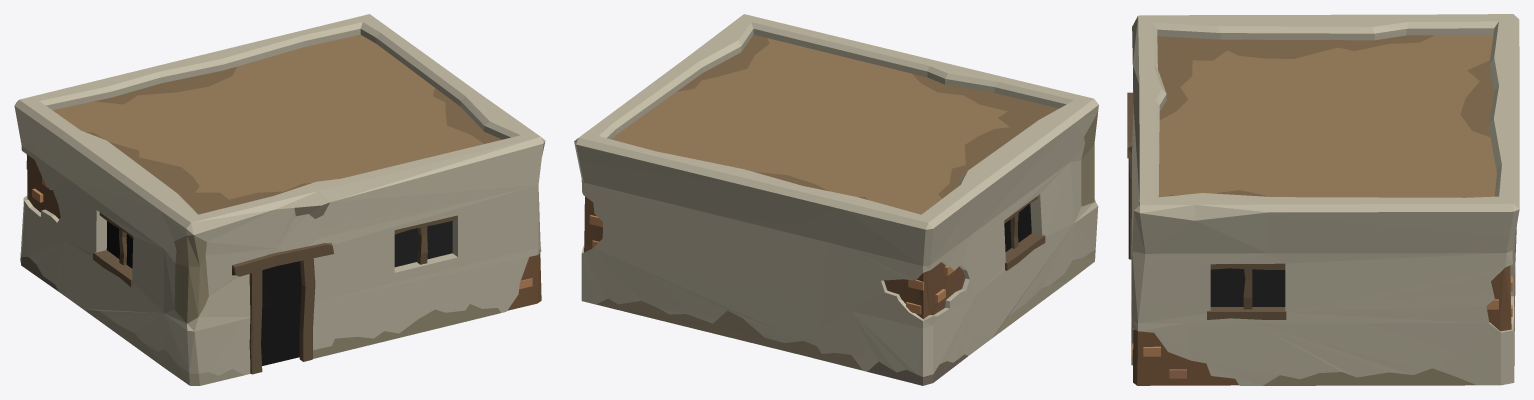
The model's file is adventure_SM_Bld_Village_06.gltf.
3 renders of one model, left to right at view 1: azimuth 30°, elevation 25°; view 2: azimuth 150°, elevation 25°; view 3: azimuth 270°, elevation 25°, orthographic. The views are drawn at different scales.
Visible parts, largest first — view 1: SM_Bld_Village_06; view 2: SM_Bld_Village_06; view 3: SM_Bld_Village_06.
Part boxes in pixels (x1=…): SM_Bld_Village_06: x1=14, y1=14, x2=545, y2=385; SM_Bld_Village_06: x1=574, y1=14, x2=1098, y2=385; SM_Bld_Village_06: x1=1127, y1=14, x2=1519, y2=385.
Bounding box in the file's own units: 7.65 × 3.29 × 6.46.
Materials: 1 (1 with a texture image).
